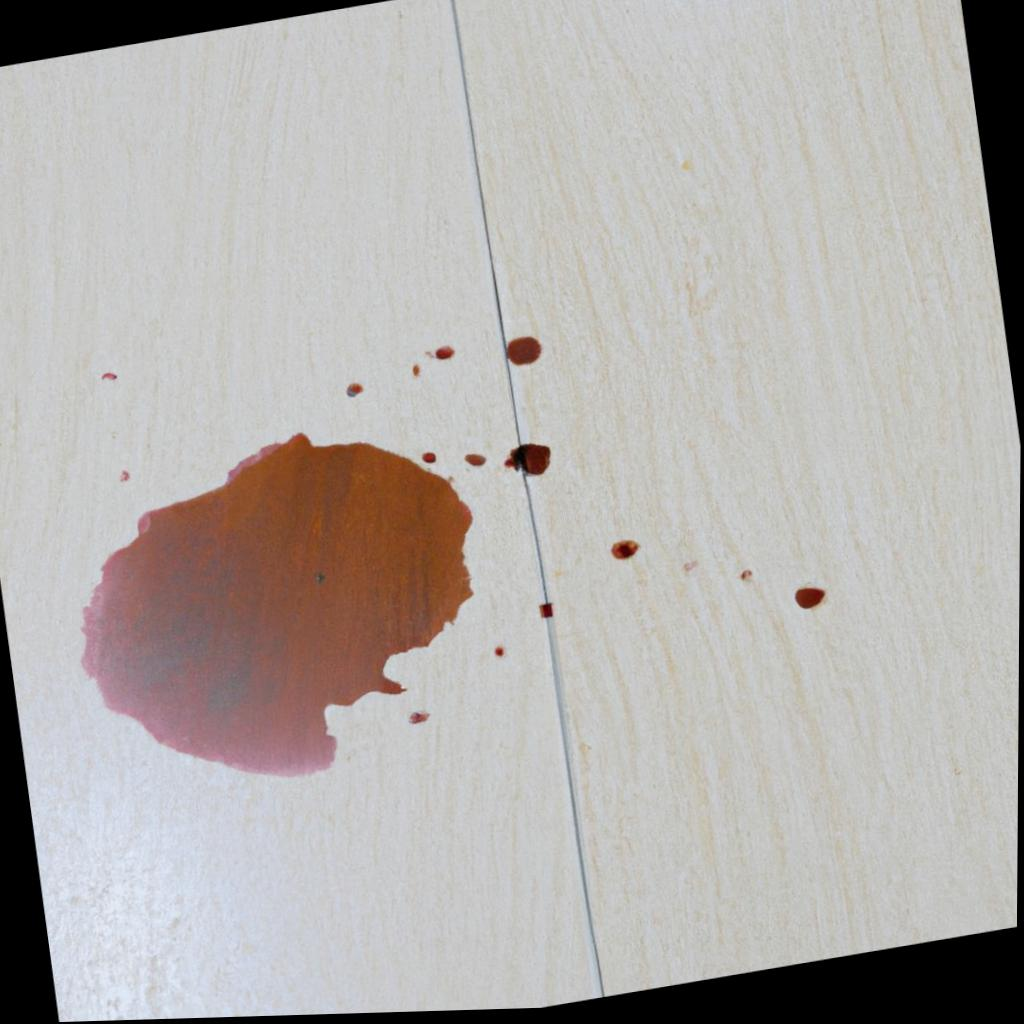Fire: (82, 433, 476, 779), (505, 446, 552, 479), (507, 338, 544, 369), (796, 592, 827, 614), (611, 543, 641, 564), (464, 455, 488, 469), (436, 348, 457, 362), (422, 454, 438, 466)
